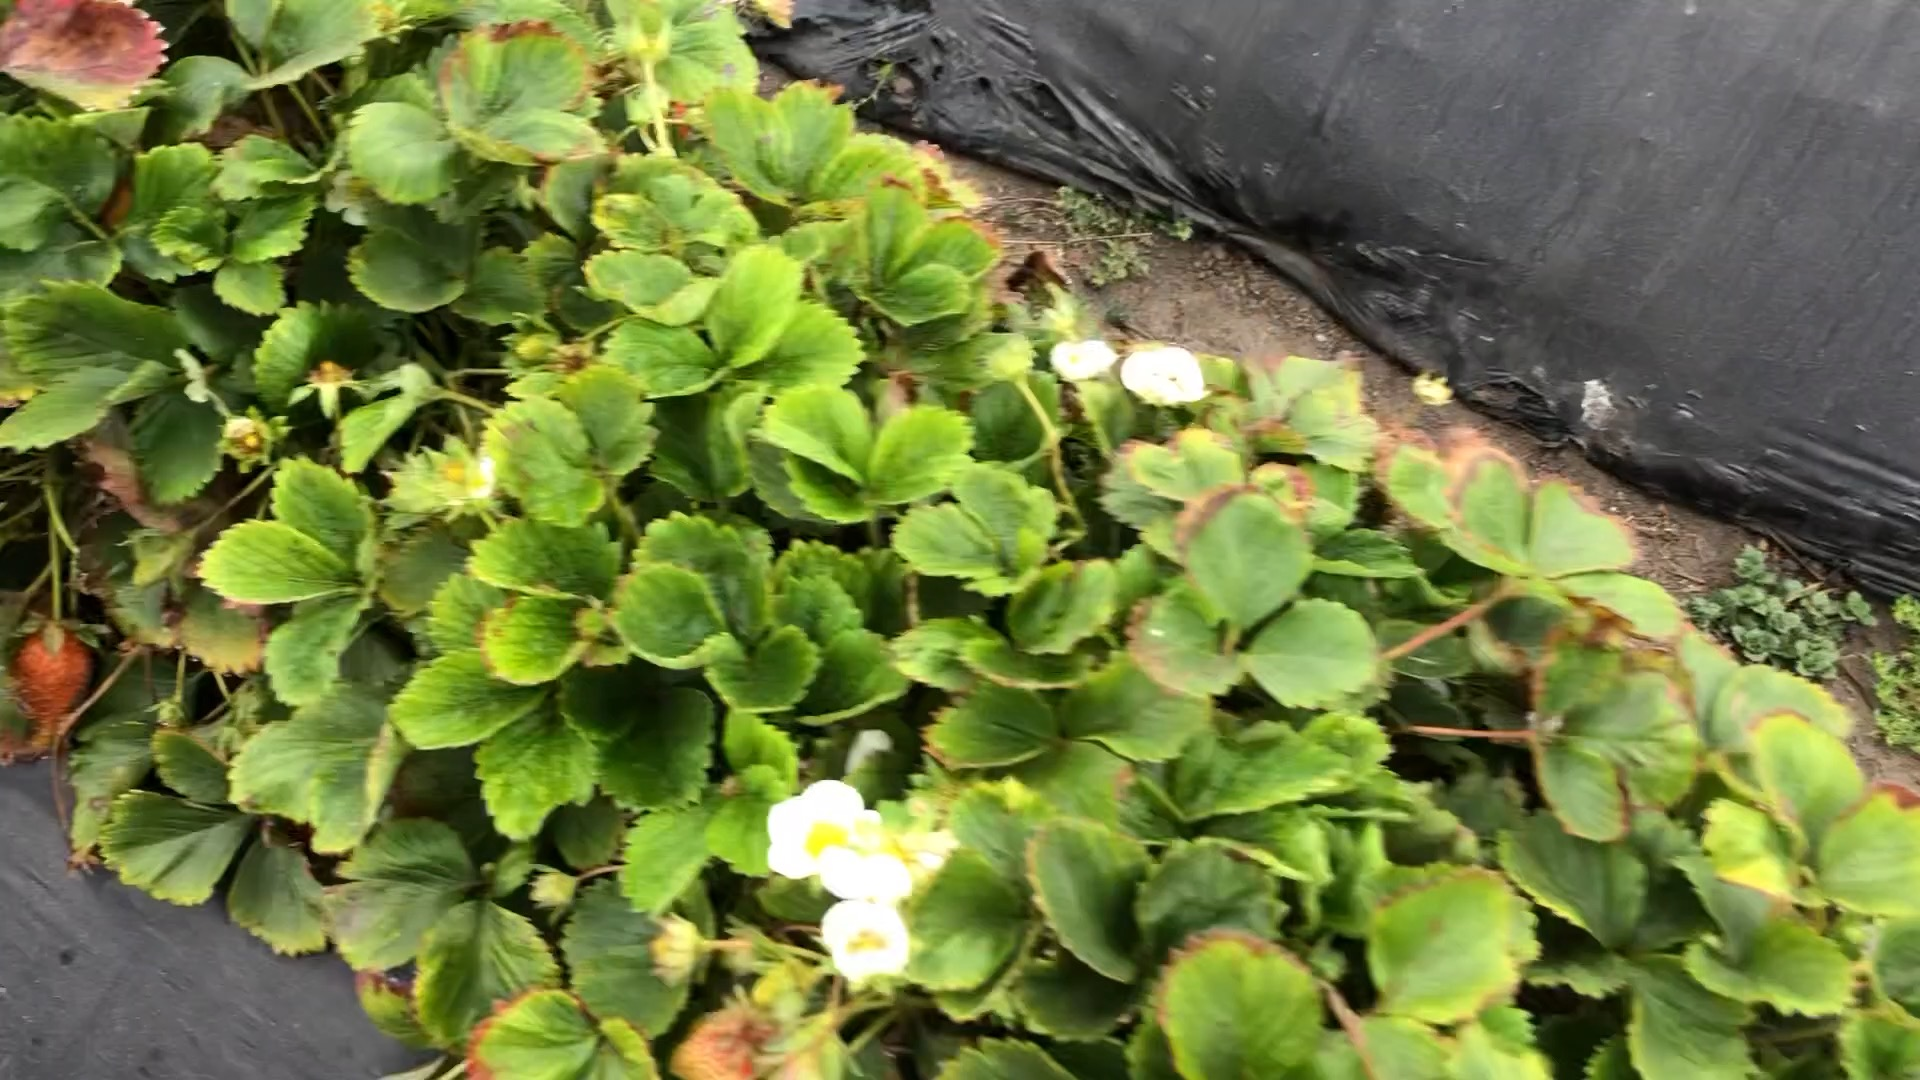ripe_strawberry: (15, 626, 96, 750), (665, 1000, 783, 1080)
